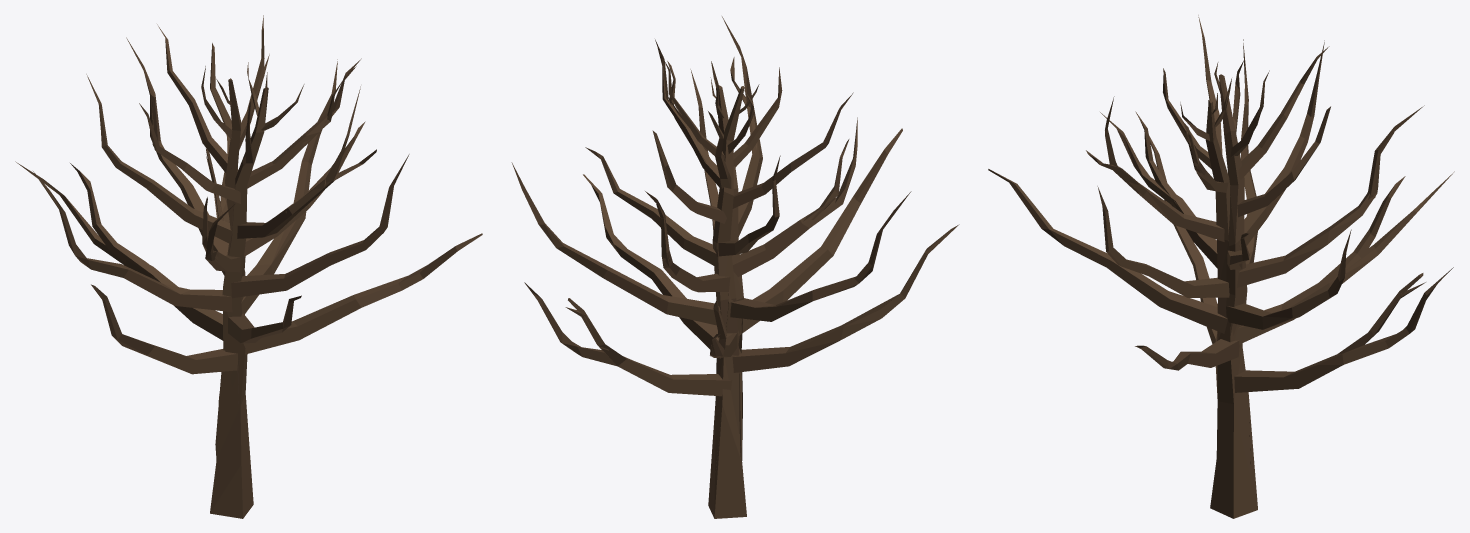
The model's file is BareTree.fbx.
3 renders of one model, left to right at view 1: azimuth 30°, elevation 25°; view 2: azimuth 150°, elevation 25°; view 3: azimuth 270°, elevation 25°, orthographic. The views are drawn at different scales.
Parts seen in each view (by area): view 1: treemesh; view 2: treemesh; view 3: treemesh.
Part boxes in pixels (<box>): treemesh: <box>15,15,482,518</box>; treemesh: <box>511,16,959,518</box>; treemesh: <box>988,15,1454,518</box>.
Size of the model in its own units: 1745 by 1680 by 1906.
